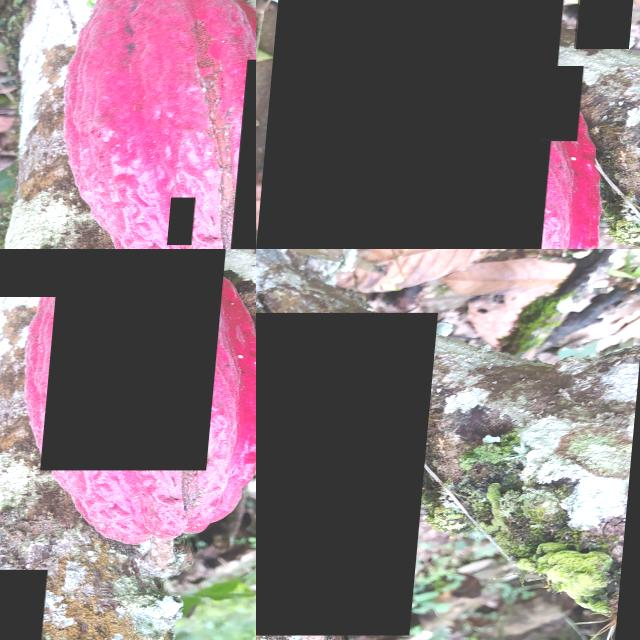Sana: (259, 0, 573, 249), (256, 312, 441, 635), (47, 249, 230, 470), (0, 249, 145, 296), (546, 66, 587, 141), (577, 0, 636, 48), (175, 198, 203, 245)
